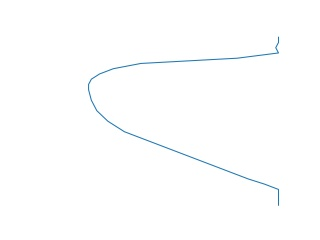beach: (81, 39, 285, 208)
